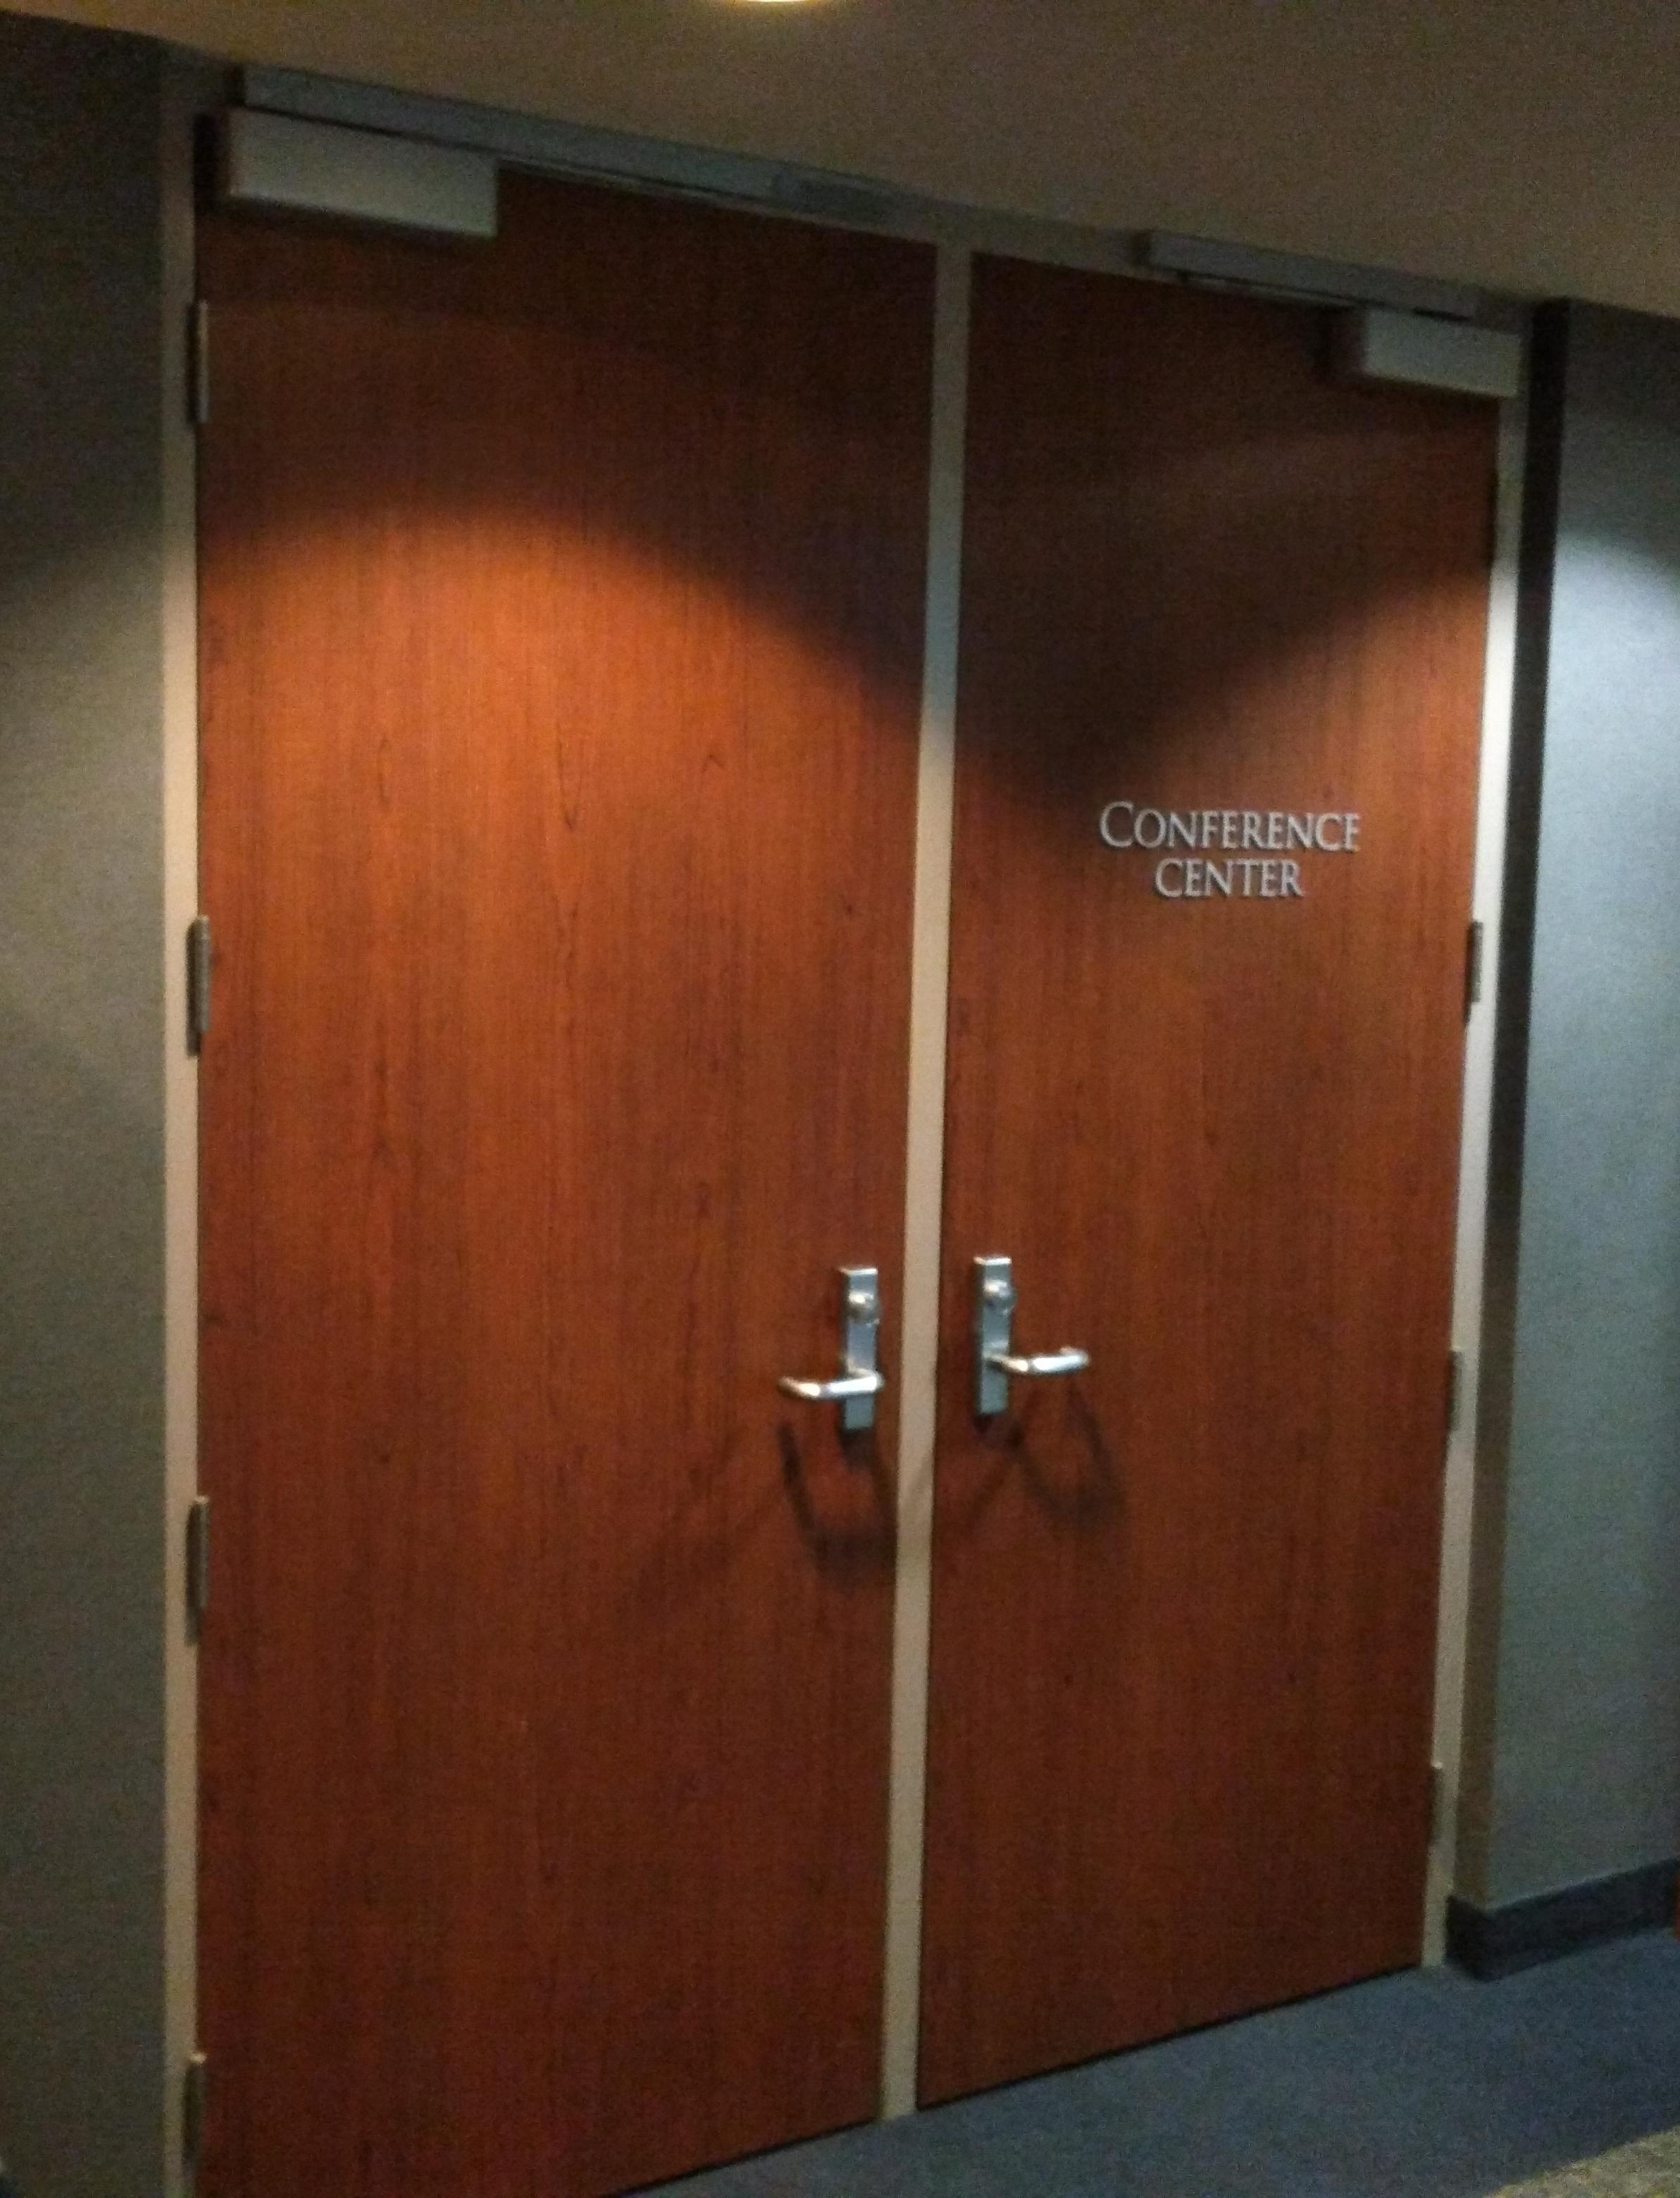door: (168, 48, 1551, 2196)
